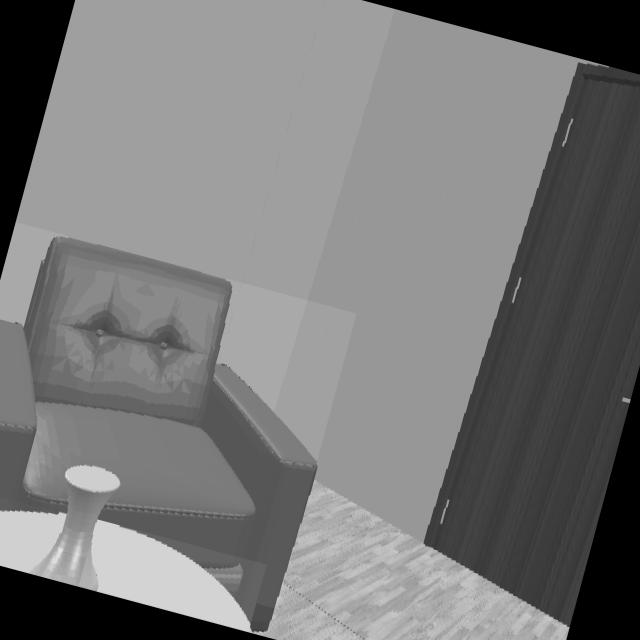sofa: (0, 238, 315, 598)
table: (90, 521, 249, 630), (0, 510, 64, 572)
